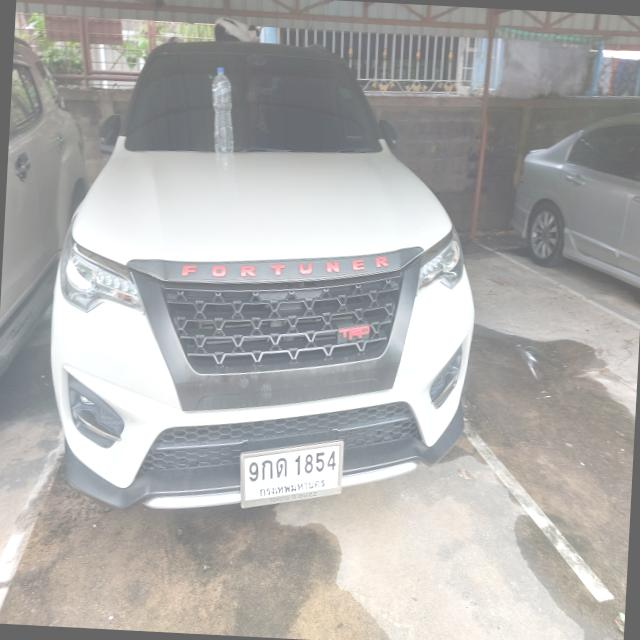license_plate: (234, 433, 348, 516)
